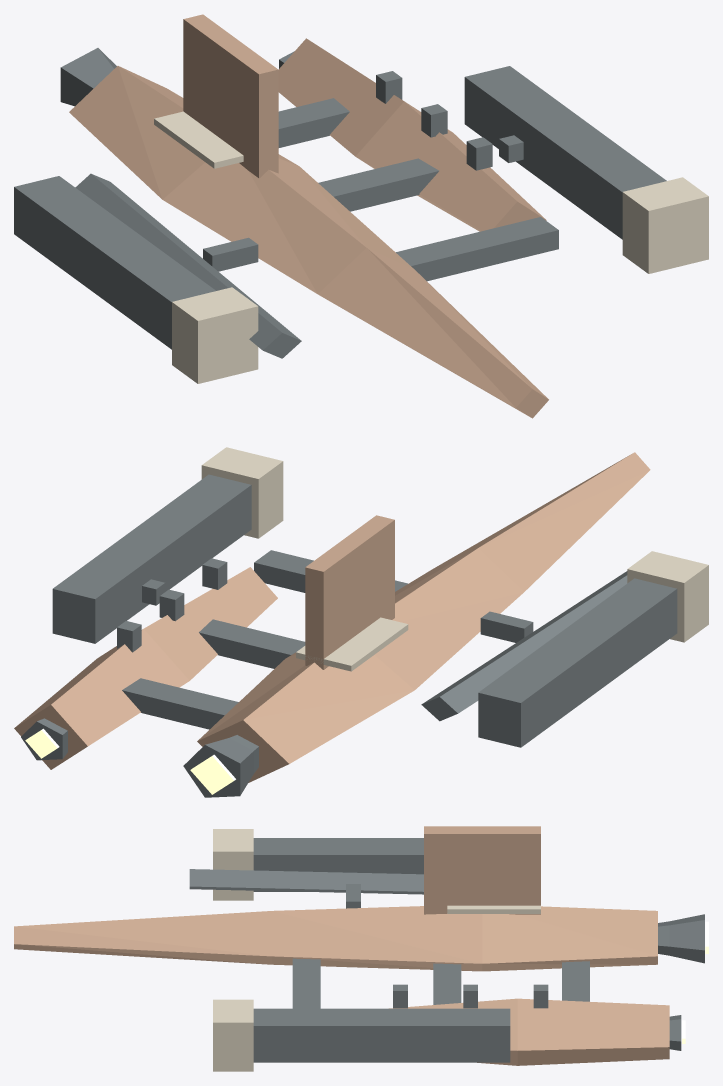
3 renders of one model, top to bottom at view 1: azimuth 30°, elevation 25°; view 2: azimuth 150°, elevation 25°; view 3: azimuth 270°, elevation 25°, orthographic. The views are drawn at different scales.
Bounding box in the file's own units: 13.55 × 5.27 × 20.56.
